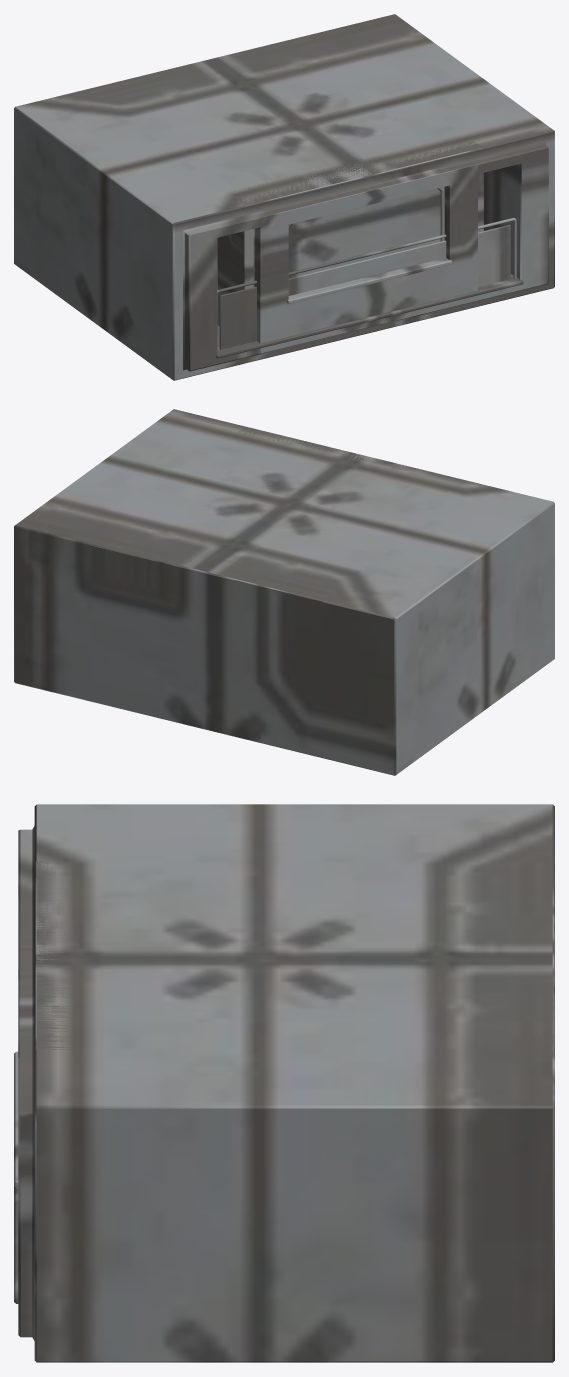
Rendered from alley-kit.glb.
3 views of the same model, one above another, from view 1: azimuth 30°, elevation 25°; view 2: azimuth 150°, elevation 25°; view 3: azimuth 270°, elevation 25° (orthographic). The views are drawn at different scales.
Visible parts, largest first — view 1: condenser-wide, condenser-narrow; view 2: condenser-wide, condenser-narrow; view 3: condenser-wide, condenser-narrow.
Part boxes in pixels (bbox=[...]): condenser-wide: bbox=[14, 14, 554, 380]; condenser-narrow: bbox=[217, 139, 483, 363]; condenser-wide: bbox=[14, 409, 554, 775]; condenser-narrow: bbox=[85, 426, 481, 757]; condenser-wide: bbox=[14, 804, 554, 1362]; condenser-narrow: bbox=[14, 860, 554, 1187].
Size of the model in its own units: 0.9514 by 0.3757 by 0.7173.
Materials: 1 (1 with a texture image).
